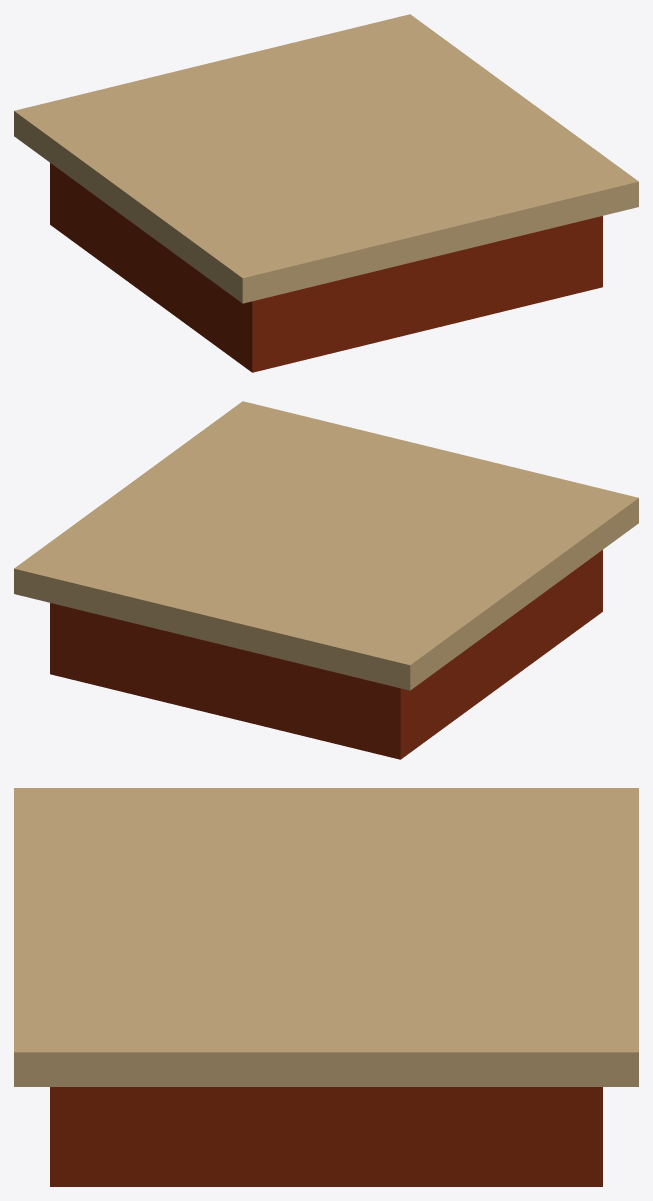
The model's file is MuebleCocina.fbx.
3 renders of one model, top to bottom at view 1: azimuth 30°, elevation 25°; view 2: azimuth 150°, elevation 25°; view 3: azimuth 270°, elevation 25°, orthographic. The views are drawn at different scales.
Visible parts, largest first — view 1: Cube; view 2: Cube; view 3: Cube.
Part boxes in pixels (bbox=[...]): Cube: bbox=[14, 14, 638, 372]; Cube: bbox=[14, 401, 638, 759]; Cube: bbox=[14, 788, 638, 1186].
Size of the model in its own units: 226 by 59.75 by 226.
